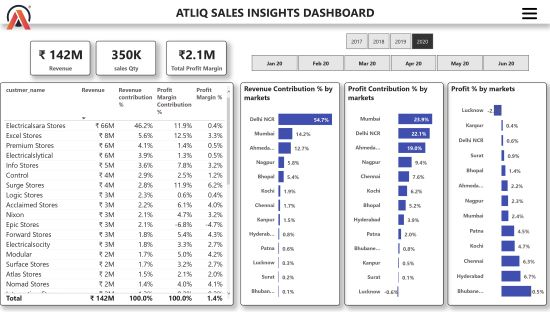

The dashboard page shown, as its layout file describes it:
{"tool":"powerbi","page":{"name":"Profit Analysis","canvas":[1280,720],"ordinal":1},"visuals":[{"type":"card","fields":{"Values":["Base Measures 2.sales Qty"]},"box":[223,90.1,140,80],"z":0},{"type":"card","fields":{"Values":["Base Measures 2.Revenue"]},"box":[70.4,90.1,140,80],"z":1000},{"type":"barChart","title":"Revenue Contribution % by markets","fields":{"Category":["sales markets.markets_name"],"Y":["Base Measures 2.Revenue contribution %"]},"box":[560.5,187.3,231.2,518],"z":2000},{"type":"barChart","title":"Profit % by markets","fields":{"Category":["sales markets.markets_name"],"Y":["Base Measures 2.Profit Margin %"]},"box":[1042,187.3,229.8,518],"z":3000},{"type":"slicer","fields":{"Values":["sales date.year"]},"box":[780,65.9,251.7,49.8],"z":4000},{"type":"slicer","fields":{"Values":["sales date.cy_date"]},"box":[560.5,115.6,695.1,51],"z":5000},{"type":"tableEx","title":"Top 5 customer","fields":{"Values":["sales customers.custmer_name","Base Measures 2.Revenue","Base Measures 2.Revenue contribution %","Base Measures 2.Profit Margin Contribution %","Base Measures 2.Profit Margin %"]},"box":[0,187.3,542.9,518],"z":6000},{"type":"card","fields":{"Values":["Base Measures 2.Total Profit Margin"]},"box":[387.2,90.1,140,80],"z":7000},{"type":"barChart","title":"Profit Contribution % by markets","fields":{"Category":["sales markets.markets_name"],"Y":["Base Measures 2.Profit Margin Contribution %"]},"box":[802,187.3,229.8,518],"z":8000},{"type":"textbox","box":[0,0,1280.5,49.8],"z":9000},{"type":"image","box":[0,0,87.8,68.8],"z":10000},{"type":"image","box":[1210.2,4.4,45.4,45.4],"z":11000}]}

Visuals, with their boxes in screenshot pixels (x1, y1, x2, y2), scaled from the page's 1280x720 canvas onto the 550x314 screenshot:
card - Base Measures 2.sales Qty: {"x1": 96, "y1": 39, "x2": 156, "y2": 74}
card - Base Measures 2.Revenue: {"x1": 30, "y1": 39, "x2": 90, "y2": 74}
"Revenue Contribution % by markets" barChart: {"x1": 241, "y1": 82, "x2": 340, "y2": 308}
"Profit % by markets" barChart: {"x1": 448, "y1": 82, "x2": 546, "y2": 308}
slicer - sales date.year: {"x1": 335, "y1": 29, "x2": 443, "y2": 50}
slicer - sales date.cy_date: {"x1": 241, "y1": 50, "x2": 540, "y2": 73}
"Top 5 customer" tableEx: {"x1": 0, "y1": 82, "x2": 233, "y2": 308}
card - Base Measures 2.Total Profit Margin: {"x1": 166, "y1": 39, "x2": 227, "y2": 74}
"Profit Contribution % by markets" barChart: {"x1": 345, "y1": 82, "x2": 443, "y2": 308}
textbox: {"x1": 0, "y1": 0, "x2": 549, "y2": 22}
image: {"x1": 0, "y1": 0, "x2": 38, "y2": 30}
image: {"x1": 520, "y1": 2, "x2": 540, "y2": 22}
